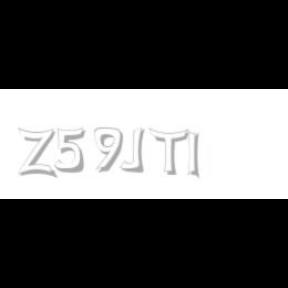5: (54, 128, 86, 174)
9: (94, 128, 124, 172)
I: (188, 128, 200, 180)
J: (119, 128, 144, 172)
T: (148, 128, 188, 176)
Z: (18, 128, 55, 178)
